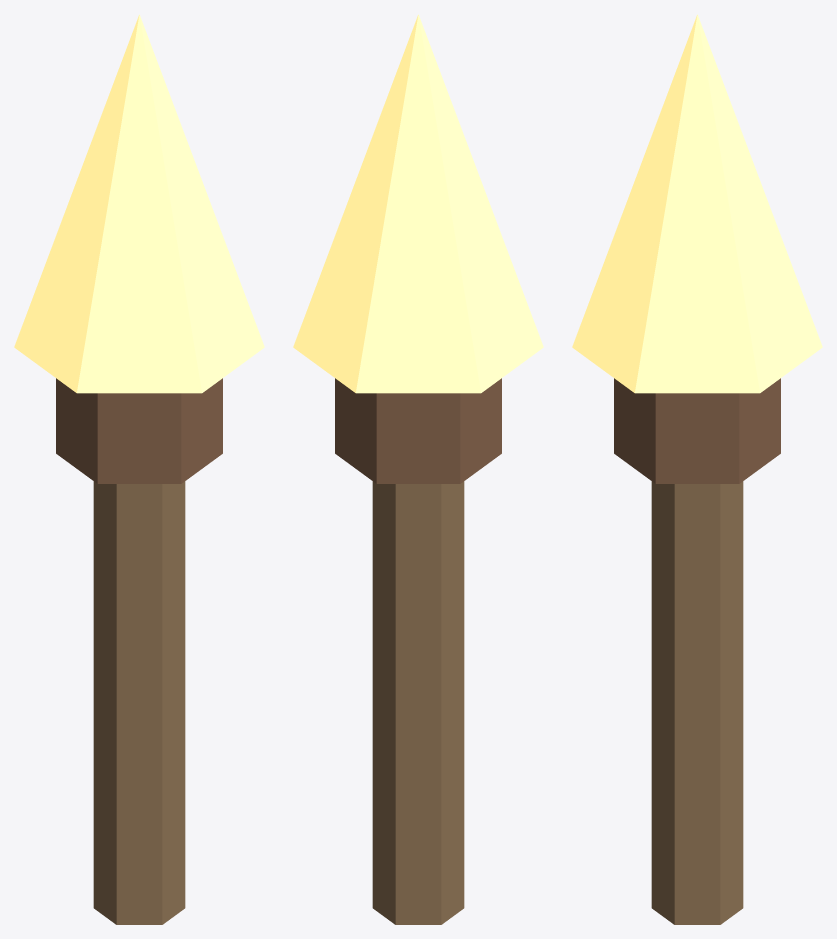
File: torch.glb
3 renders of one model, left to right at view 1: azimuth 30°, elevation 25°; view 2: azimuth 150°, elevation 25°; view 3: azimuth 270°, elevation 25°, orthographic.
Parts seen in each view (by area): view 1: flame, handle.002, wrap; view 2: flame, handle.002, wrap; view 3: flame, handle.002, wrap.
Part boxes in pixels (box(x1,y1,x2,y2)): flame: box(14, 14, 264, 393); handle.002: box(93, 481, 185, 924); wrap: box(56, 378, 222, 483); flame: box(293, 14, 543, 393); handle.002: box(372, 481, 464, 924); wrap: box(335, 378, 501, 483); flame: box(572, 14, 822, 393); handle.002: box(651, 481, 743, 924); wrap: box(614, 378, 780, 483).
Bounding box in the file's own units: 0.2598 × 1.18 × 0.3.
